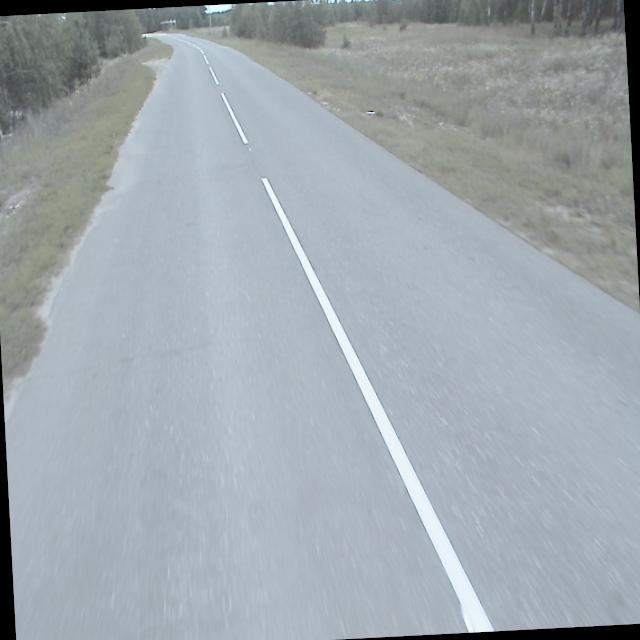road: (5, 33, 640, 640)
